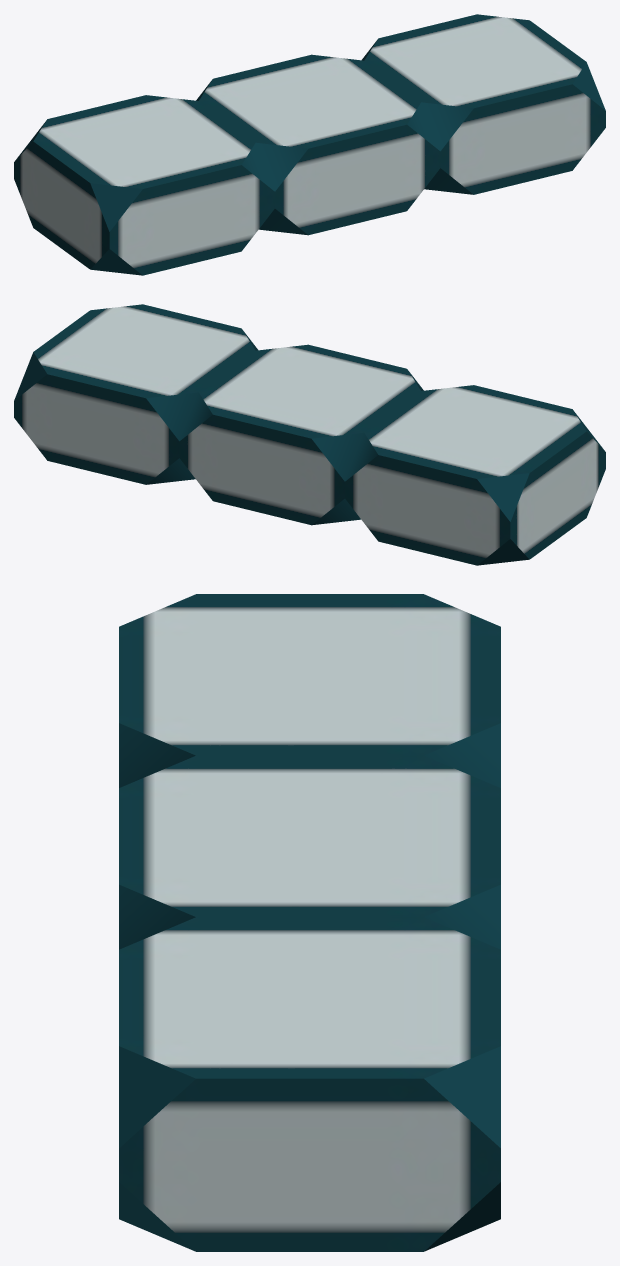
File: MG-ChangJing-CeShi-BianKuai-3.FBX
The picture shows the model from 3 angles, top to bottom: view 1: azimuth 30°, elevation 25°; view 2: azimuth 150°, elevation 25°; view 3: azimuth 270°, elevation 25°; orthographic projection. The views are drawn at different scales.
Parts seen in each view (by area): view 1: MG-ChangJing-CeShi-BianKuai-3; view 2: MG-ChangJing-CeShi-BianKuai-3; view 3: MG-ChangJing-CeShi-BianKuai-3.
Part boxes in pixels (<box>): MG-ChangJing-CeShi-BianKuai-3: <box>14,14,605,275</box>; MG-ChangJing-CeShi-BianKuai-3: <box>14,304,605,565</box>; MG-ChangJing-CeShi-BianKuai-3: <box>119,594,500,1251</box>.
Bounding box in the file's own units: 47.24 × 7.87 × 15.75.
